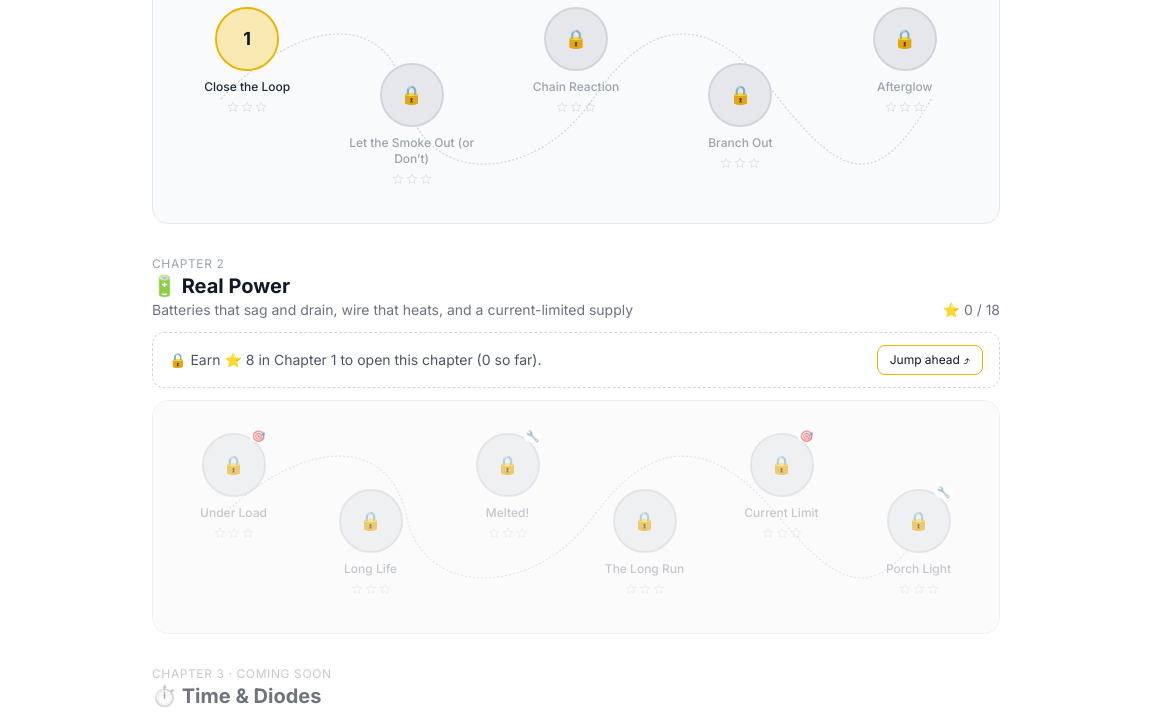
CampaignPanel › later chapters start locked, and jump ahead opens them
(page scrolled)
Expected: the element with test id "locked-c2" shows "Earn ⭐ 8 in Chapter 1", [152,332,1000,388]
Expected: the button named "Level 1: Under Load (locked)" is disabled, [202,433,266,497]
Click the button "Jump ahead ⤴" at (930, 360), box [877,345,983,375]
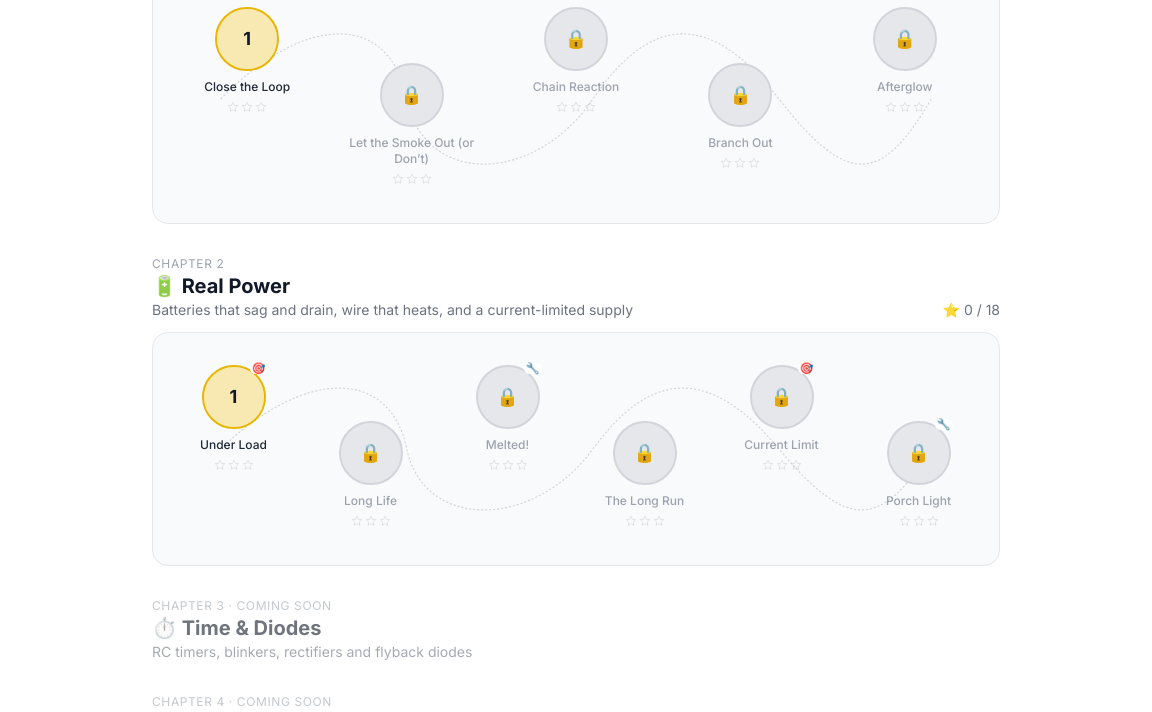
Expected: the button named "Level 2: Long Life (locked)" is disabled, [338,421,402,485]
Now the button named "Level 1: Under Load" is enabled, box [202,365,266,429]
